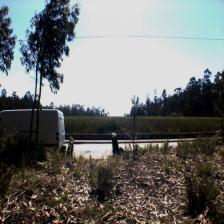trunktrack_idkeyframe: (29, 108, 34, 143), (35, 108, 40, 143)
